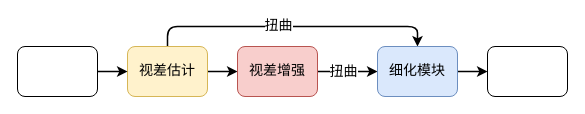
Image size: 585x114. Some labels were removed from this diagram. Each missing label, with the box of its shape:
输入视点: (16, 46, 98, 96)
重建视点: (486, 46, 568, 96)
